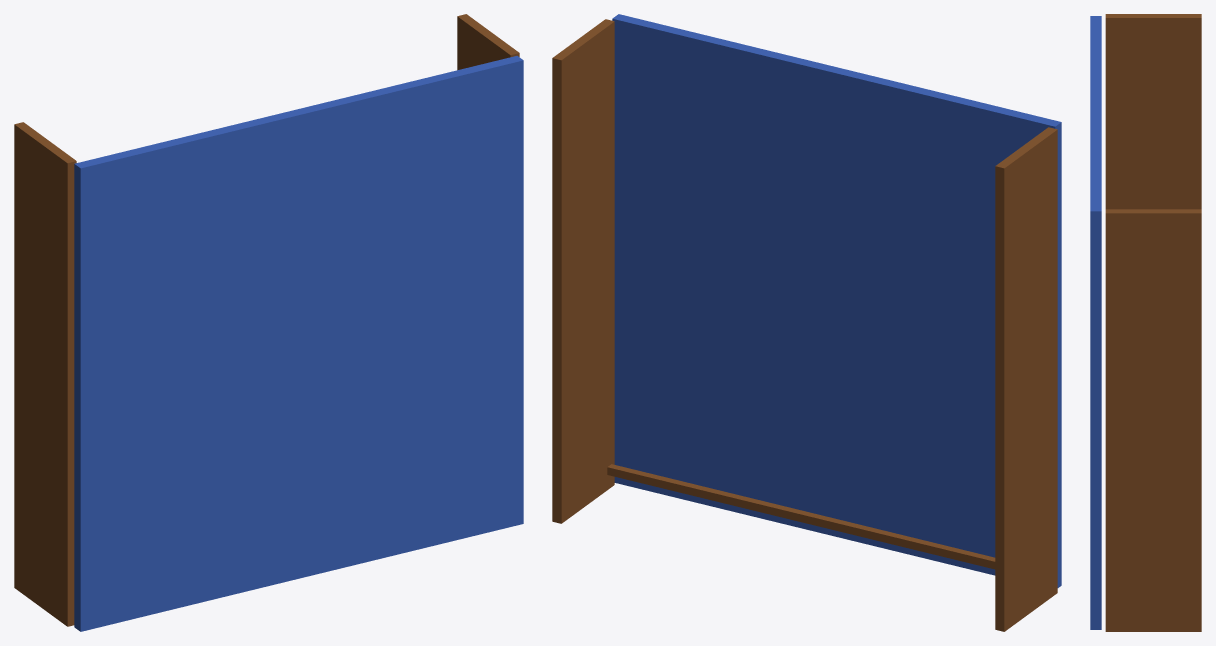
Rendered from backdrop_flat.fbx.
3 views of the same model, side by side, from view 1: azimuth 30°, elevation 25°; view 2: azimuth 150°, elevation 25°; view 3: azimuth 270°, elevation 25° (orthographic). The views are drawn at different scales.
Parts seen in each view (by area): view 1: backdrop_flat; view 2: backdrop_flat; view 3: backdrop_flat.
Boxes of the visible parts, <box> form: backdrop_flat: <box>14,14,523,631</box>; backdrop_flat: <box>552,14,1061,631</box>; backdrop_flat: <box>1090,14,1201,631</box>.
Size of the model in its own units: 2.45 by 2.4 by 0.58.
